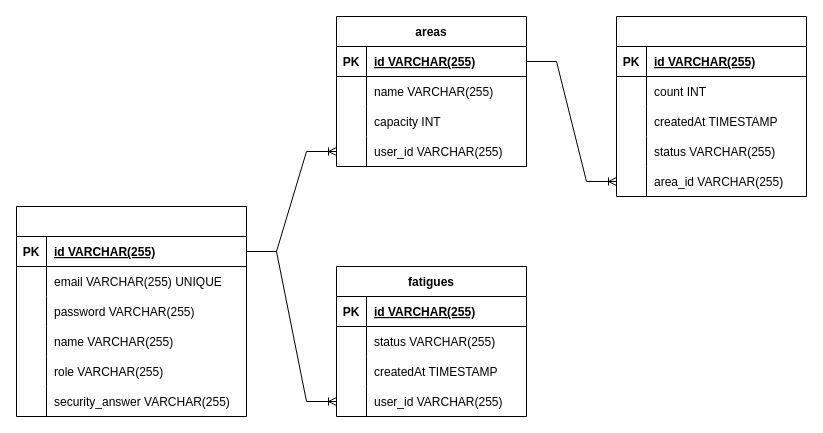
This 823x433 diagram has some shape labels left out. Each missing label, with the box of its shape:
crowds: (616, 16, 806, 196)
users: (16, 206, 246, 416)
